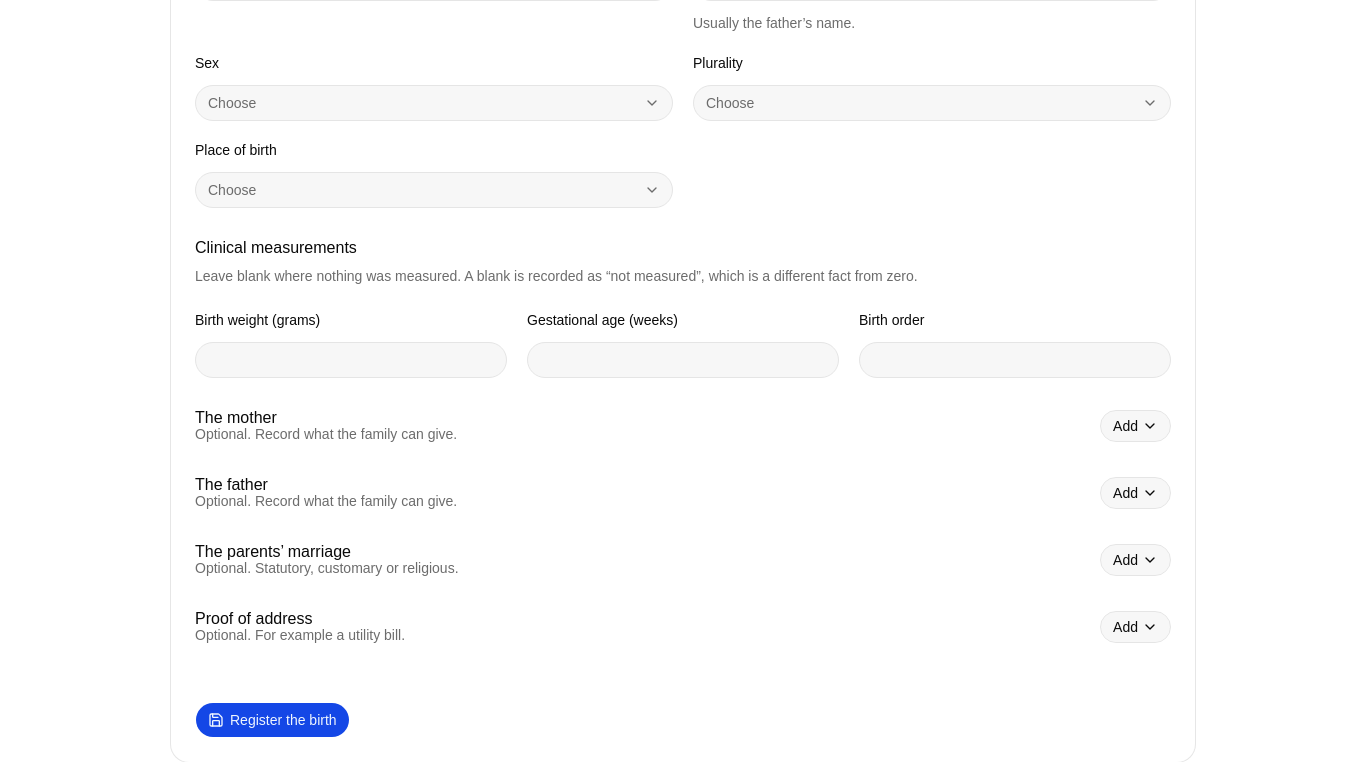
it: when the form is refused › says so at the button instead of appearing to do nothing
(page scrolled)
Click the button "Register the birth". click: (272, 720)
box: [195, 702, 350, 738]
(page scrolled)
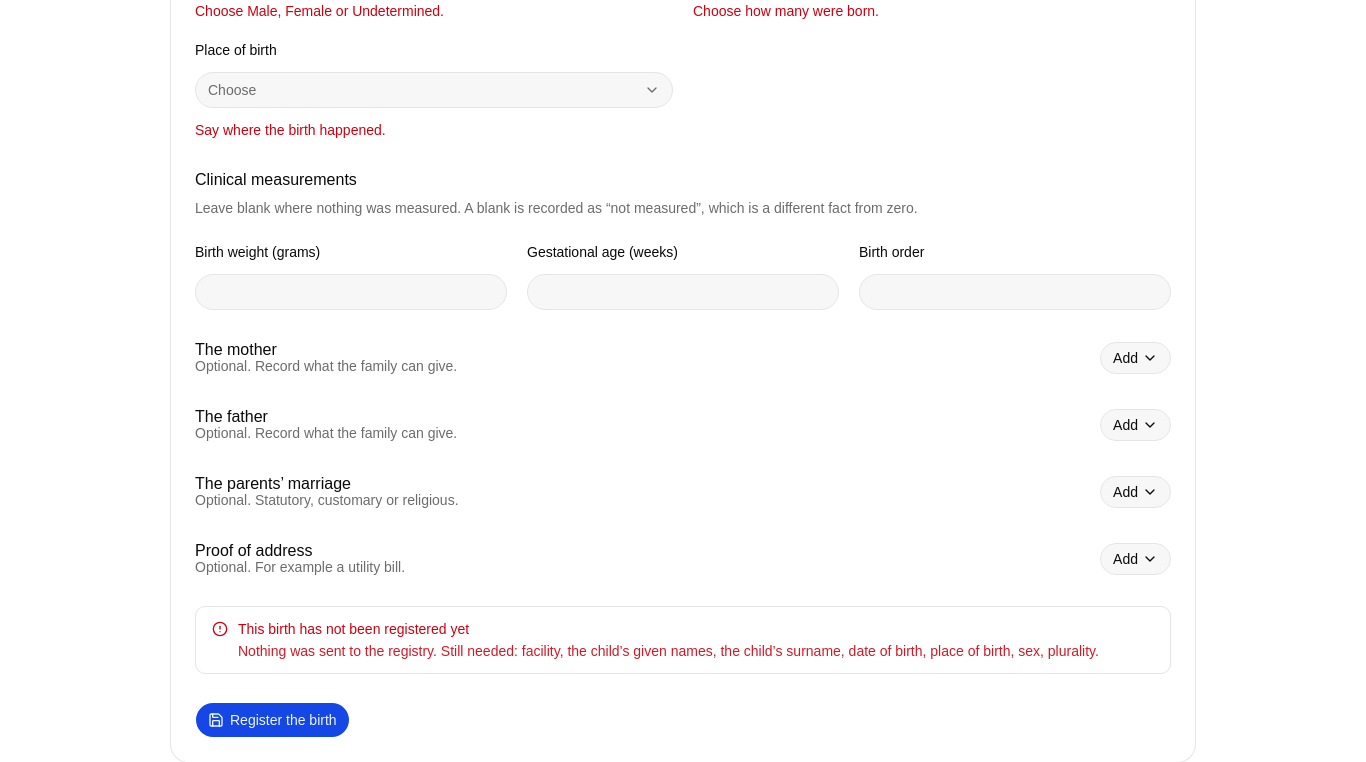
Check: the text "This birth has not been registered yet" is shown, box [238, 621, 469, 637]
Check: the text "Nothing was sent to the registry" is shown, box [238, 643, 518, 659]
